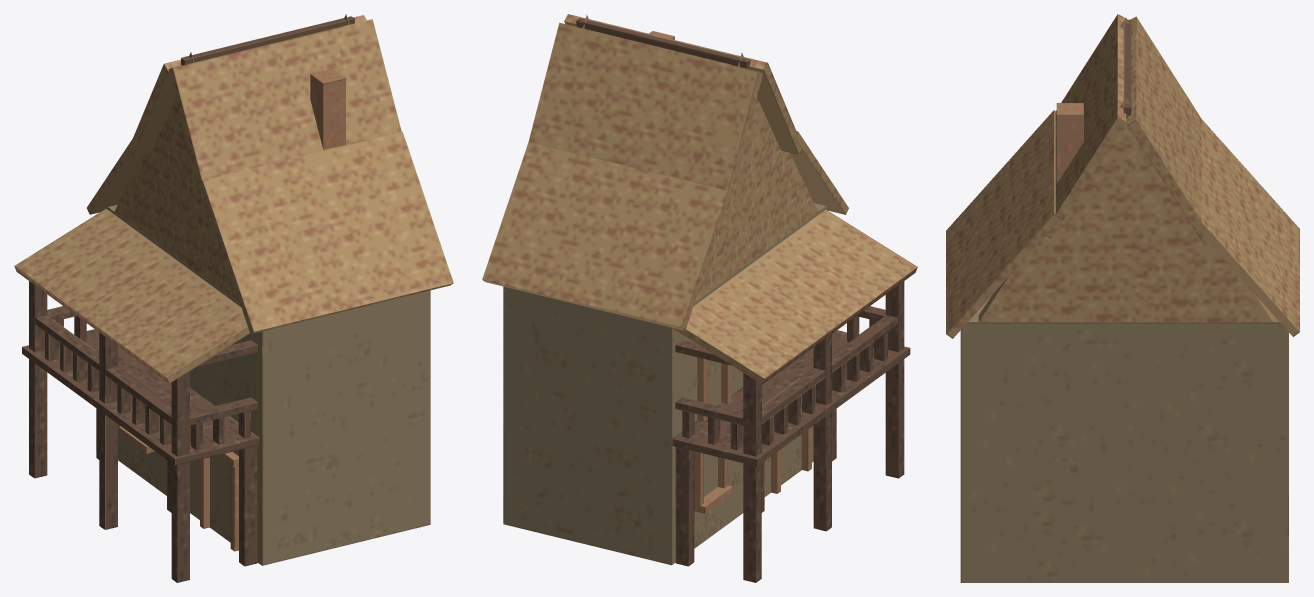
File: medieval H2 (1).obj
The picture shows the model from 3 angles, left to right: view 1: azimuth 30°, elevation 25°; view 2: azimuth 150°, elevation 25°; view 3: azimuth 270°, elevation 25°; orthographic projection. The views are drawn at different scales.
Visible parts, largest first — view 1: cube, pyramid; view 2: cube, pyramid; view 3: cube, pyramid.
Part boxes in pixels (x1,y1,x2,y2): cube: (14,15,453,582); pyramid: (114,14,381,302); cube: (482,14,917,582); pyramid: (583,15,817,301); cube: (946,14,1299,582); pyramid: (978,18,1273,322).
Bounding box in the file's own units: 5.4 × 8.47 × 5.63.
1 material, 1 textured.
